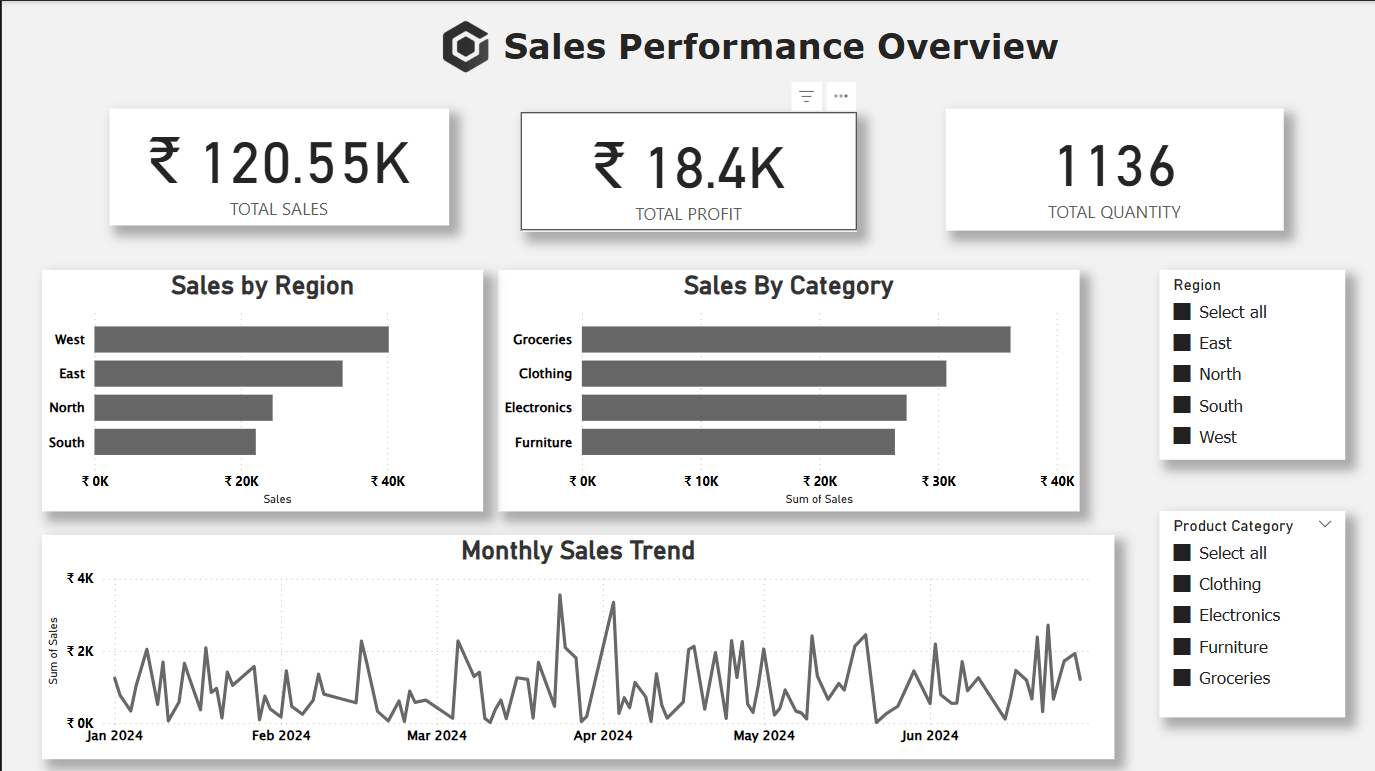

This screenshot's page, from the dashboard's own definition file:
{"tool":"powerbi","page":{"name":"Page 1","canvas":[1280,720],"ordinal":0},"visuals":[{"type":"card","fields":{"Values":["Sum(Sheet1.Quantity)"]},"box":[878.2,100.2,314.2,113.9],"z":0},{"type":"card","fields":{"Values":["Sum(Sheet1.Profit)"]},"box":[483,102.9,312.9,111.1],"z":1000},{"type":"card","fields":{"Values":["Sum(Sheet1.Sales)"]},"box":[100.2,100.2,315.6,108.4],"z":2000},{"type":"barChart","title":"Sales By Category","fields":{"Category":["Sheet1.Product Category","Sheet1.Region"],"Y":["Sum(Sheet1.Sales)"]},"box":[461.1,249.7,540.7,225],"z":3000},{"type":"lineChart","title":"Monthly Sales Trend","fields":{"Y":["Sum(Sheet1.Sales)"],"Category":["Sheet1.S.Variation.Date Hierarchy.Year","Sheet1.S.Variation.Date Hierarchy.Month","Sheet1.S.Variation.Date Hierarchy.Day"]},"box":[37,496.7,997.6,208.6],"z":4000},{"type":"slicer","fields":{"Values":["Sheet1.Product Category"]},"box":[1077.2,474.8,172.9,192.1],"z":5000},{"type":"slicer","fields":{"Values":["Sheet1.Region"]},"box":[1077.2,249.7,172.9,177],"z":6000},{"type":"image","box":[380.1,0,102.9,86.4],"z":7000},{"type":"barChart","fields":{"Y":["Sum(Sheet1.Sales)"],"Category":["Sheet1.Region"]},"box":[37,249.7,410.3,225],"z":8000},{"type":"textbox","box":[461.1,17.8,555.7,56.3],"z":9000}]}

Visuals, with their boxes in screenshot pixels (x1, y1, x2, y2), scaled from the page's 1280x720 canvas onto the 1375x771 screenshot:
card - Sum(Sheet1.Quantity): box(943, 107, 1281, 229)
card - Sum(Sheet1.Profit): box(519, 110, 855, 229)
card - Sum(Sheet1.Sales): box(108, 107, 447, 223)
"Sales By Category" barChart: box(495, 267, 1076, 508)
"Monthly Sales Trend" lineChart: box(40, 532, 1111, 755)
slicer - Sheet1.Product Category: box(1157, 508, 1343, 714)
slicer - Sheet1.Region: box(1157, 267, 1343, 457)
image: box(408, 0, 519, 93)
barChart - Sum(Sheet1.Sales) x Sheet1.Region: box(40, 267, 480, 508)
textbox: box(495, 19, 1092, 79)
